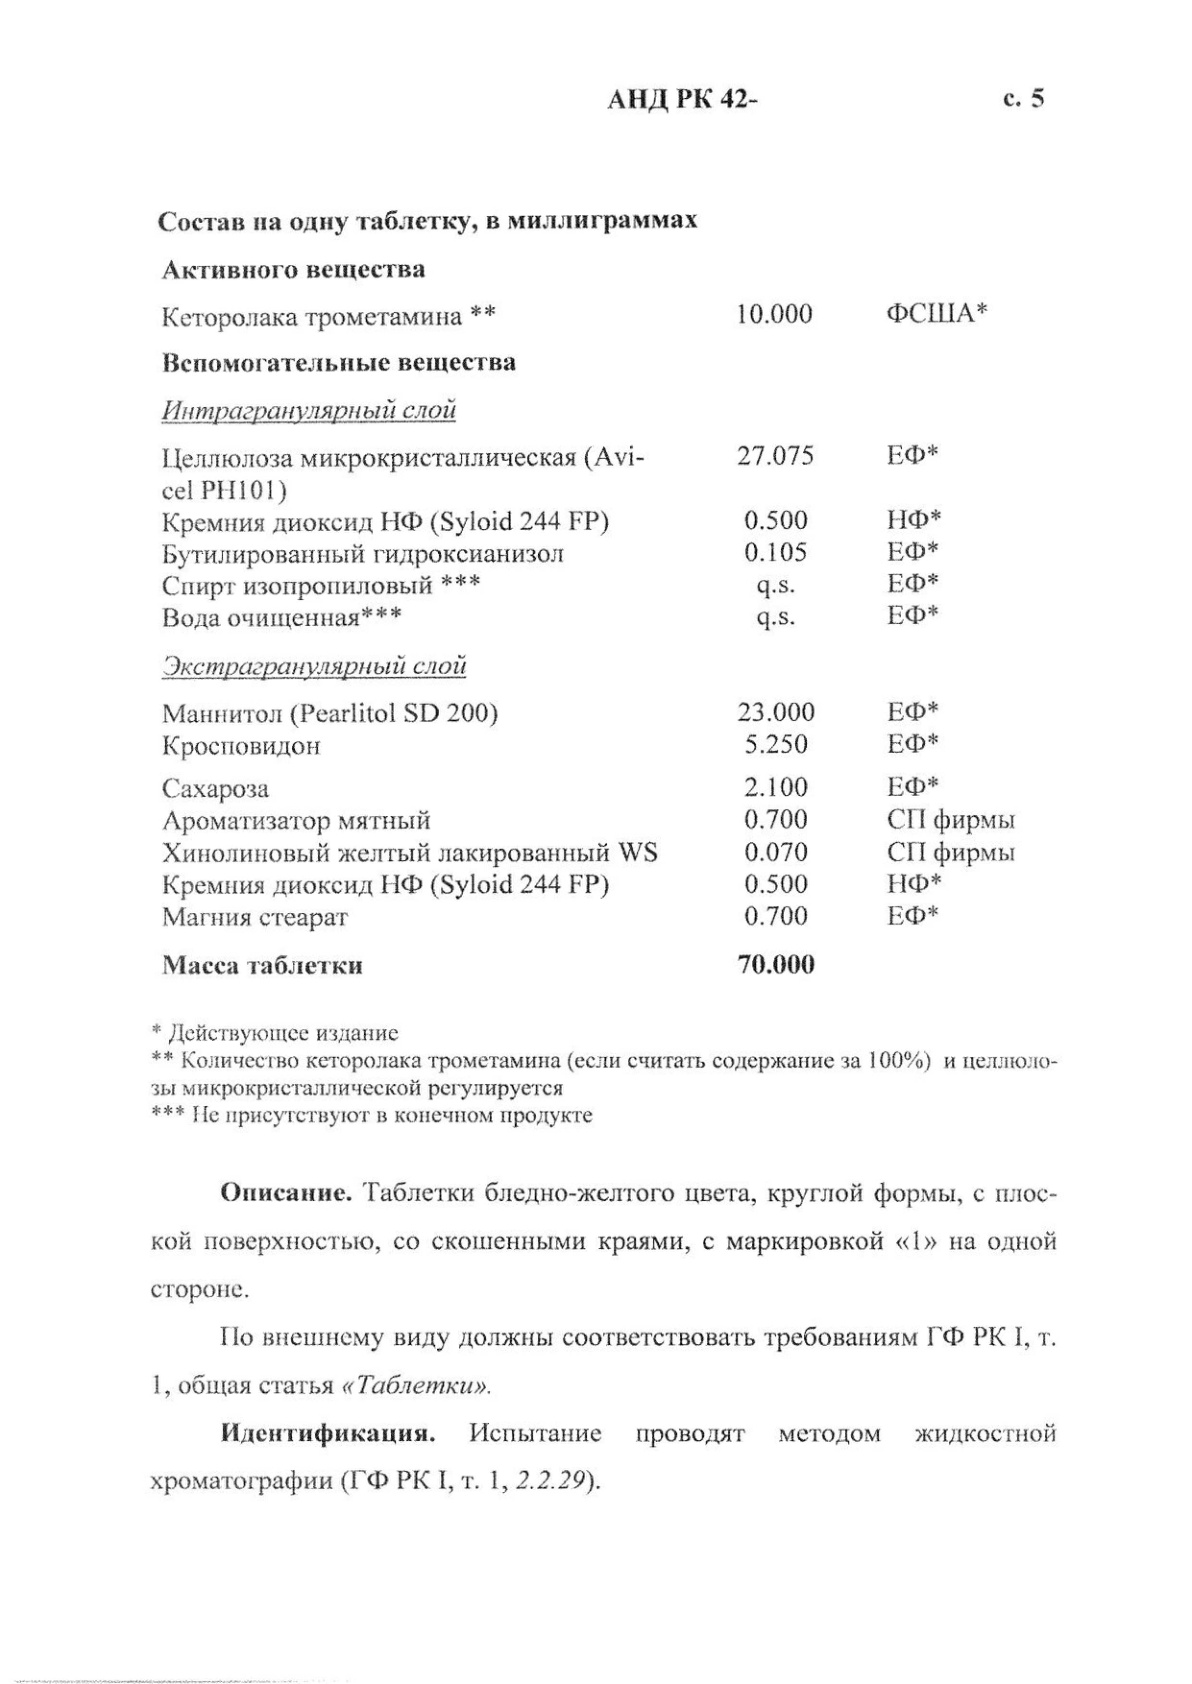nolines: (161, 257, 1018, 981)
